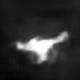plane: (12, 29, 70, 65)
